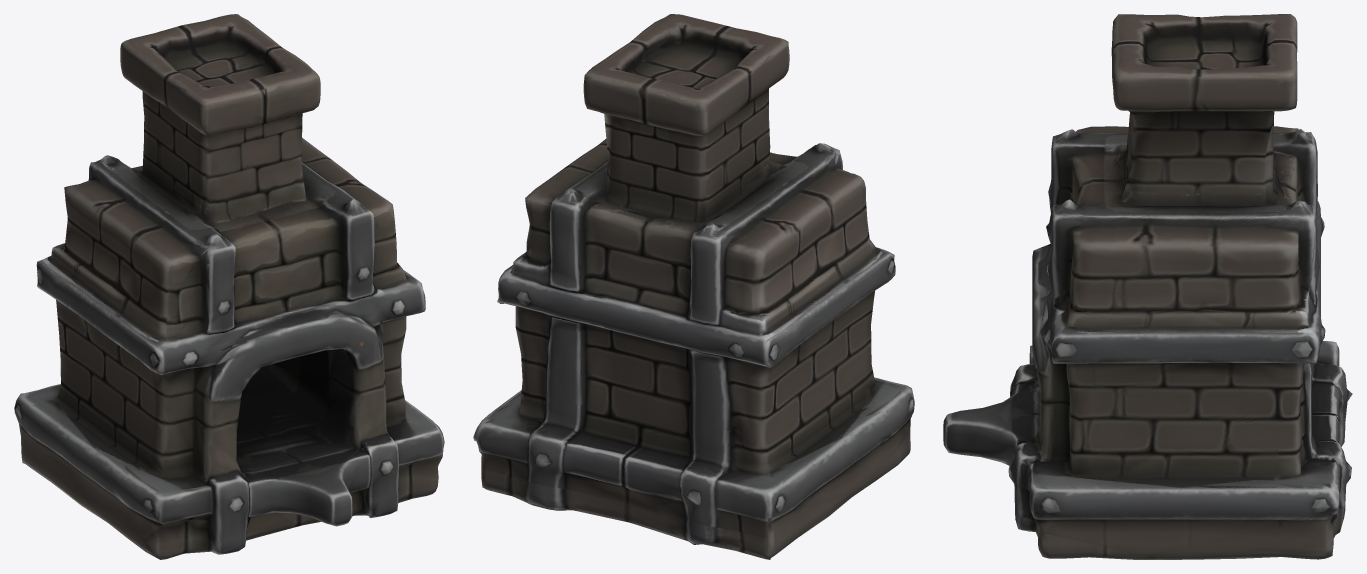
The model's file is furnance.glb.
The picture shows the model from 3 angles, left to right: view 1: azimuth 30°, elevation 25°; view 2: azimuth 150°, elevation 25°; view 3: azimuth 270°, elevation 25°; orthographic projection. The views are drawn at different scales.
Bounding box in the file's own units: 1.43 × 1.91 × 1.59.
Materials: 1 (1 with a texture image).
